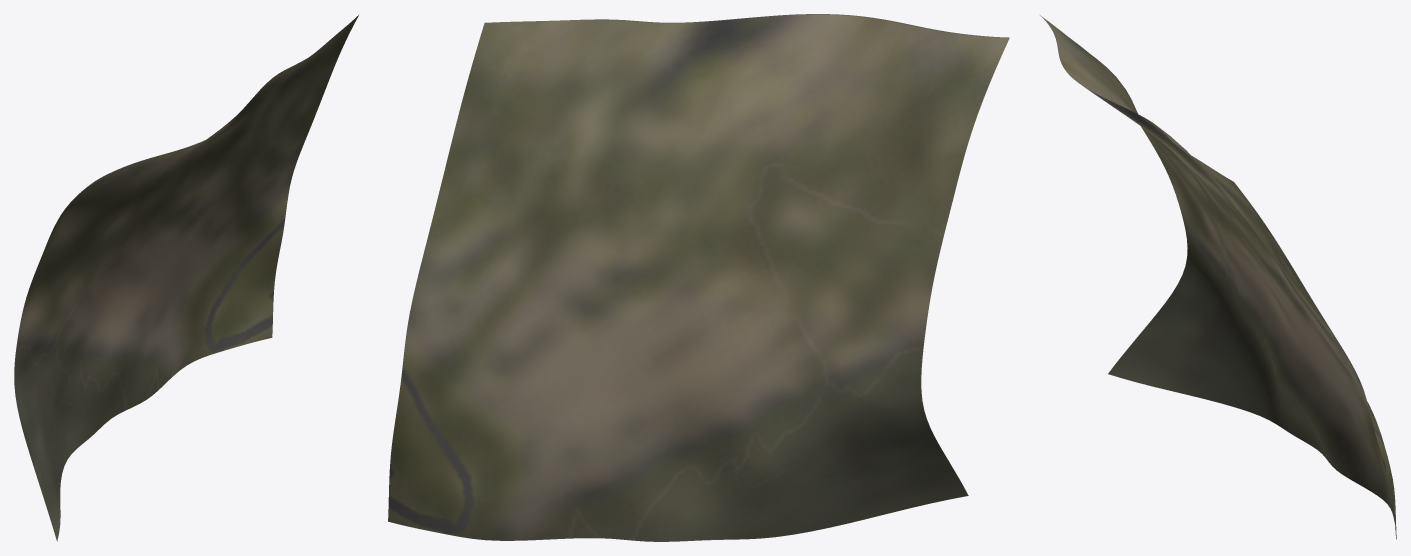
Rendered from ground_mid_05_07.obj.
3 views of the same model, side by side, from view 1: azimuth 30°, elevation 25°; view 2: azimuth 150°, elevation 25°; view 3: azimuth 270°, elevation 25° (orthographic). The views are drawn at different scales.
Visible parts, largest first — view 1: ground_mid_05_07; view 2: ground_mid_05_07; view 3: ground_mid_05_07.
Boxes of the visible parts, <box> form: ground_mid_05_07: <box>14,14,359,541</box>; ground_mid_05_07: <box>388,14,1009,541</box>; ground_mid_05_07: <box>1040,15,1396,539</box>.
Size of the model in its own units: 200 by 200 by 180.
Materials: 1 (1 with a texture image).
